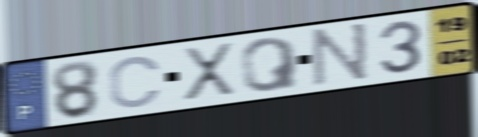3: (376, 17, 423, 77)
8: (49, 59, 102, 122)
C: (107, 54, 165, 110)
N: (310, 20, 370, 89)
Q: (238, 35, 302, 95)
X: (180, 40, 239, 103)
